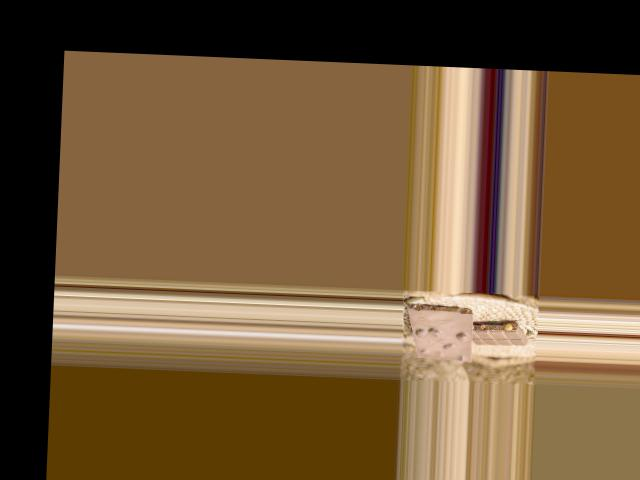chocolate: (405, 304, 477, 363)
